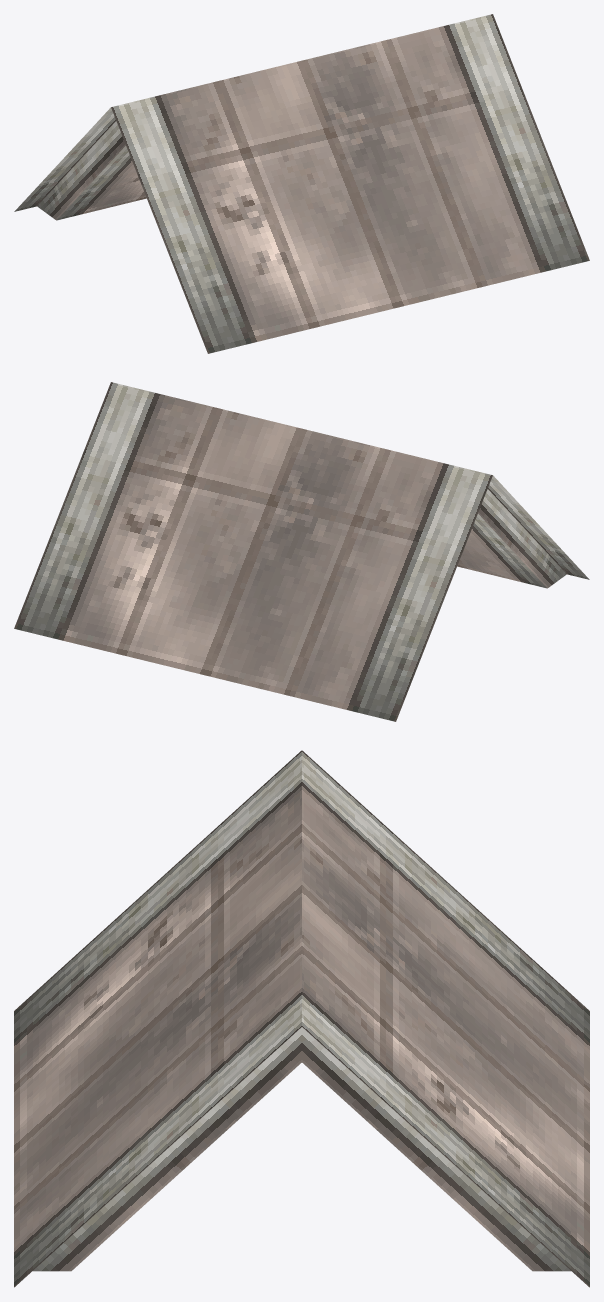
The model's file is roof-metal-type-a.glb.
The picture shows the model from 3 angles, top to bottom: view 1: azimuth 30°, elevation 25°; view 2: azimuth 150°, elevation 25°; view 3: azimuth 270°, elevation 25°; orthographic projection. The views are drawn at different scales.
Parts seen in each view (by area): view 1: roof-metal-type-a; view 2: roof-metal-type-a; view 3: roof-metal-type-a.
Boxes of the visible parts, x1,y1,x2,y2 form: roof-metal-type-a: (14,14,589,353); roof-metal-type-a: (14,382,589,721); roof-metal-type-a: (14,750,589,1287).
Bounding box in the file's own units: 1.14 × 0.5 × 1.
Materials: 2 (2 with a texture image).
